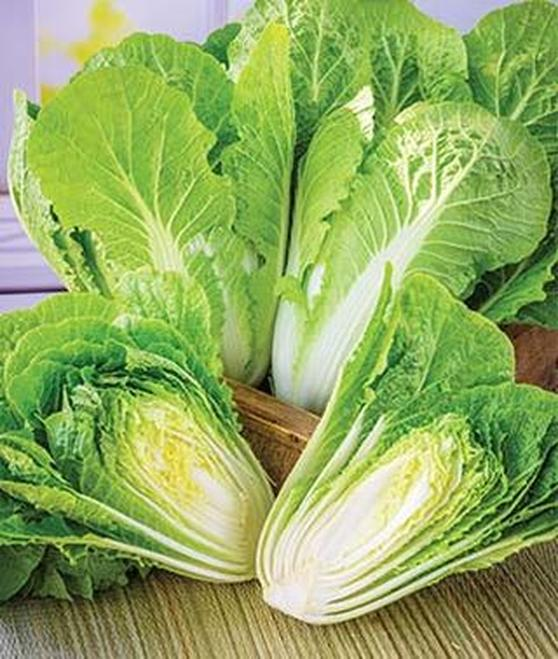cabbage: (260, 289, 558, 628), (41, 41, 278, 381), (284, 104, 530, 404)
